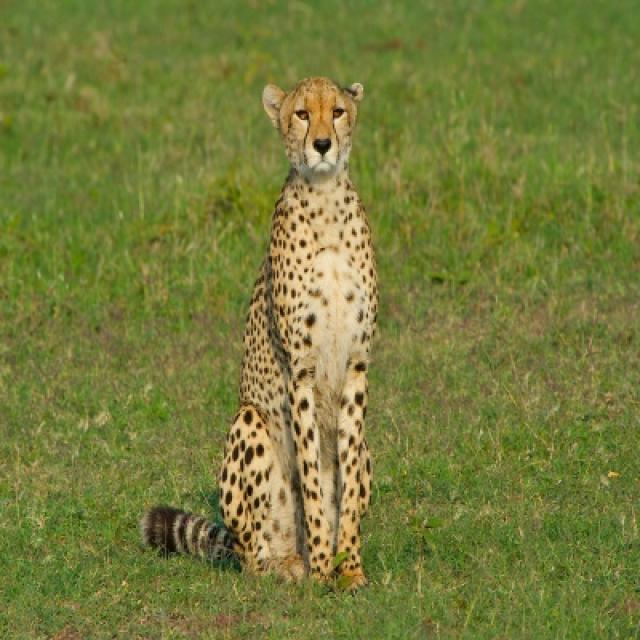Cheetah: (141, 77, 376, 587)
